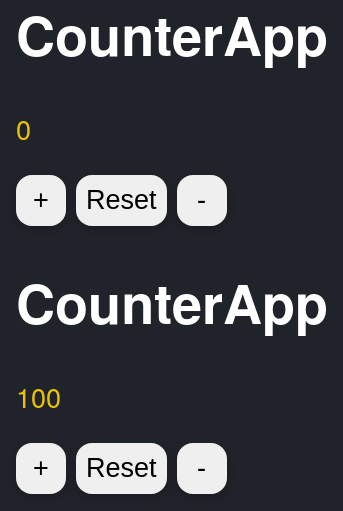
Test: CounterApp component tests › should show the default value with the button Reset
This screenshot has width=343, height=511.
Click the button "+" below "100": (41, 468) x1=16 y1=443 x2=66 y2=494
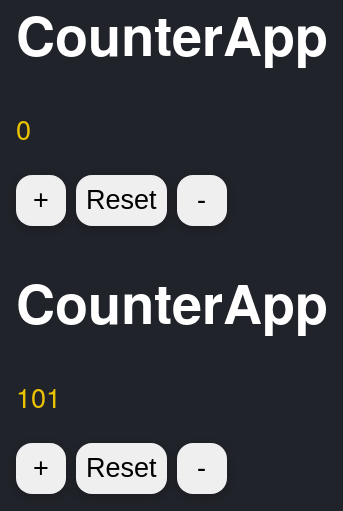
Click the button "Reset" below "101": (121, 468) x1=76 y1=443 x2=167 y2=494
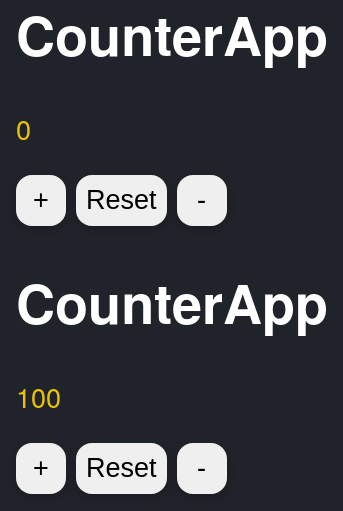
Result: the text "100" is shown at x1=16 y1=377 x2=61 y2=416
